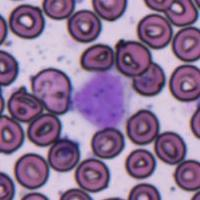L: (74, 71, 129, 130)
